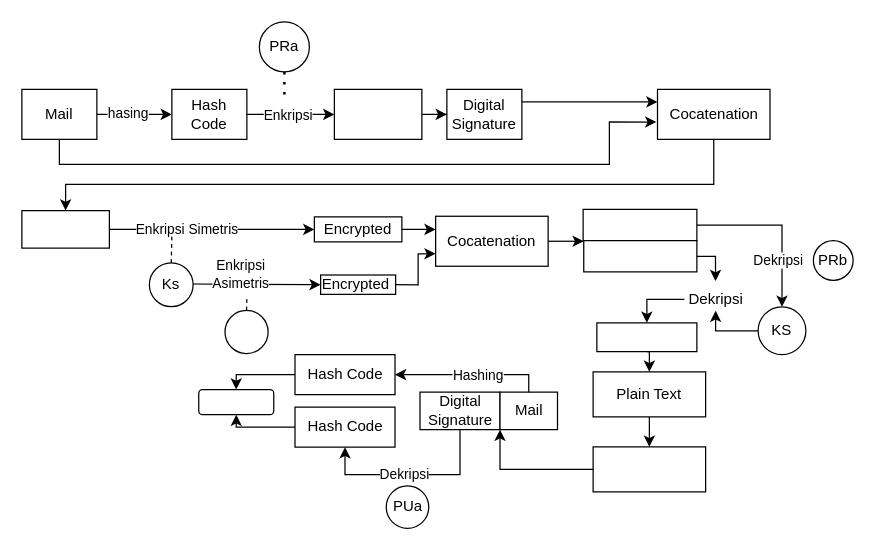
The diagram is 875 pixels wide and 551 high, and some of its shapes have lost their labels. The shapes that lost their labels are listed below. From the top down, each one's centre as x and y in pixels, then its label:
At [377,113]: "Public Key Encryption".
At [65,228]: "Compress".
At [639,224]: "E(PuB, Ks)".
At [639,255]: "E(M)".
At [246,331]: "PUb".
At [646,337]: "Decrypted".
At [236,401]: "Compare".
At [649,469]: "Decompress".
